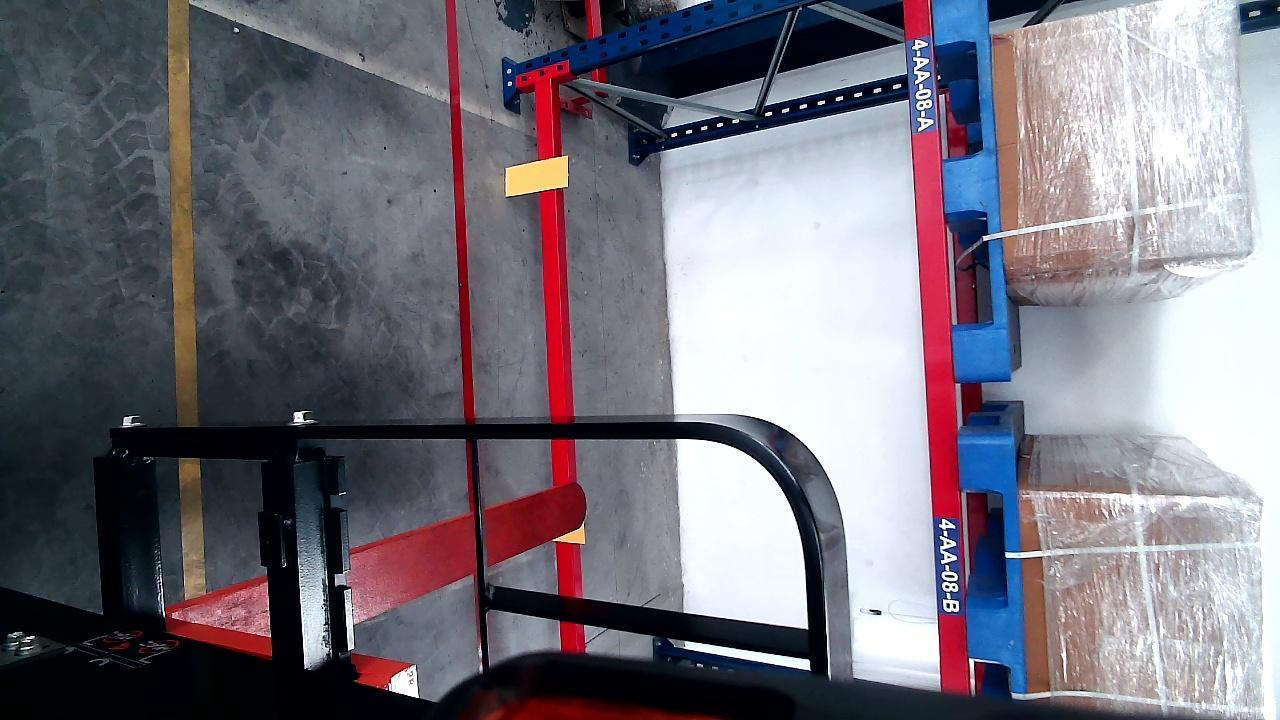h_rack: (534, 64, 583, 651)
orange_strip: (504, 156, 567, 195)
small_pallet: (963, 435, 1025, 699)
yellow_line: (170, 0, 197, 417)
